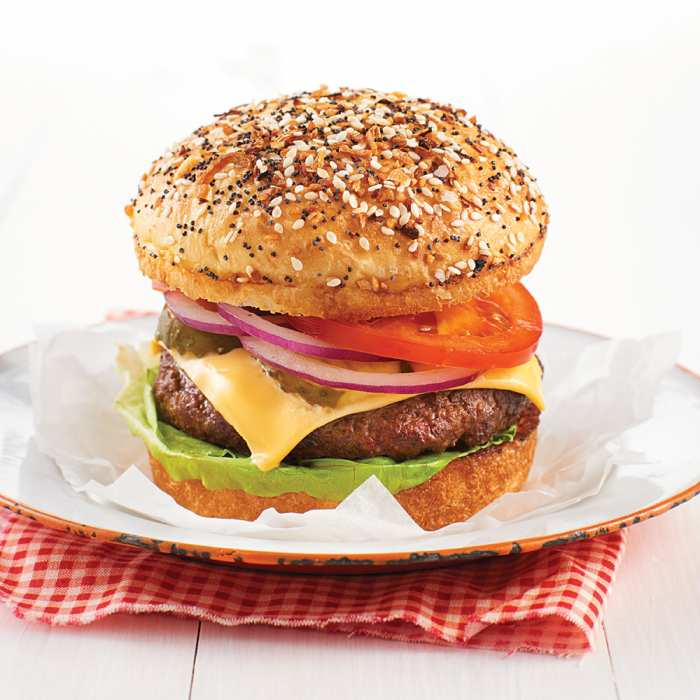hamburger: (136, 86, 552, 554)
